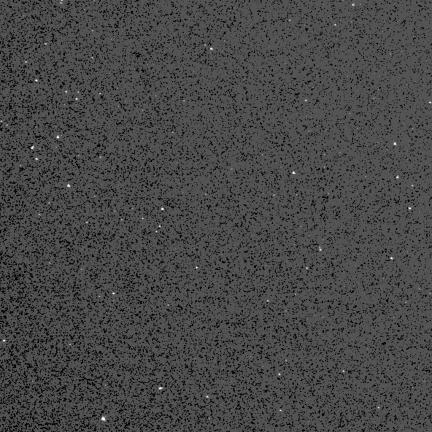blob: (292, 172, 296, 175), (57, 136, 60, 140), (161, 208, 165, 211)
